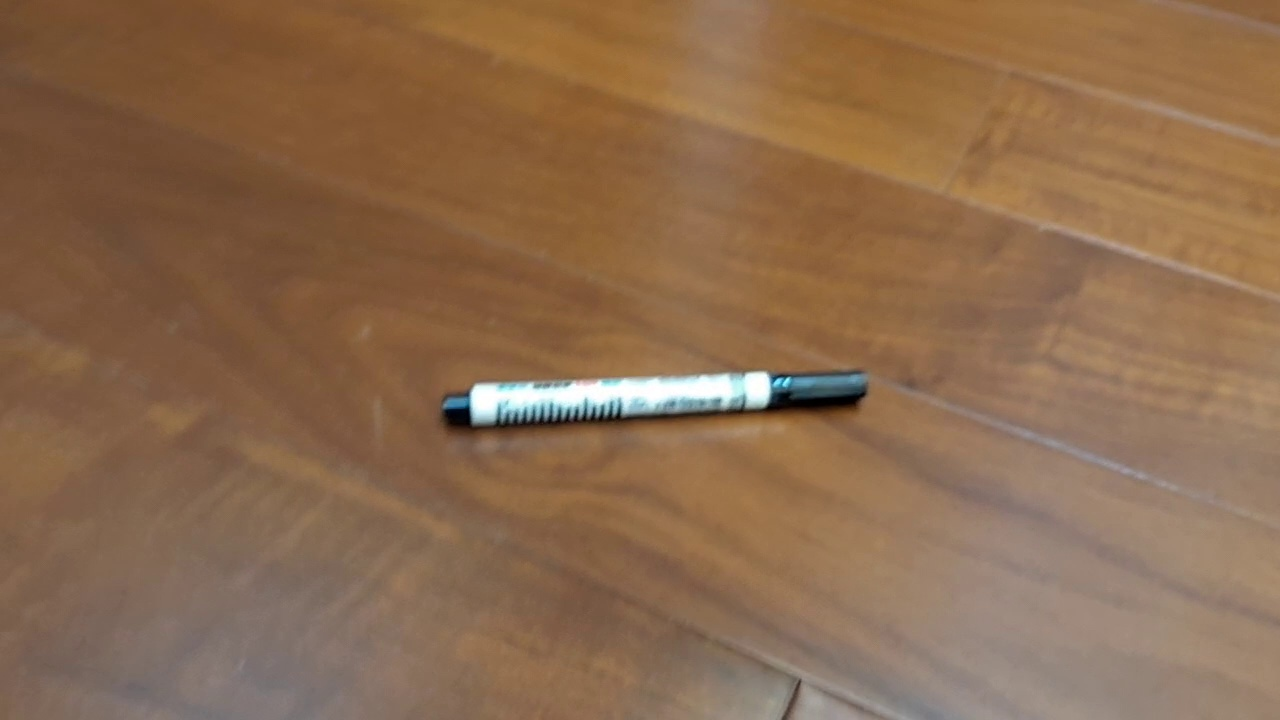pen: (441, 366, 869, 430)
